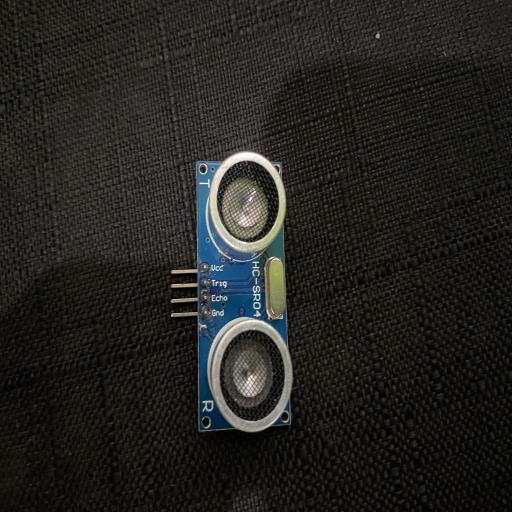Ultrasonic Sensor: (170, 150, 294, 434)
